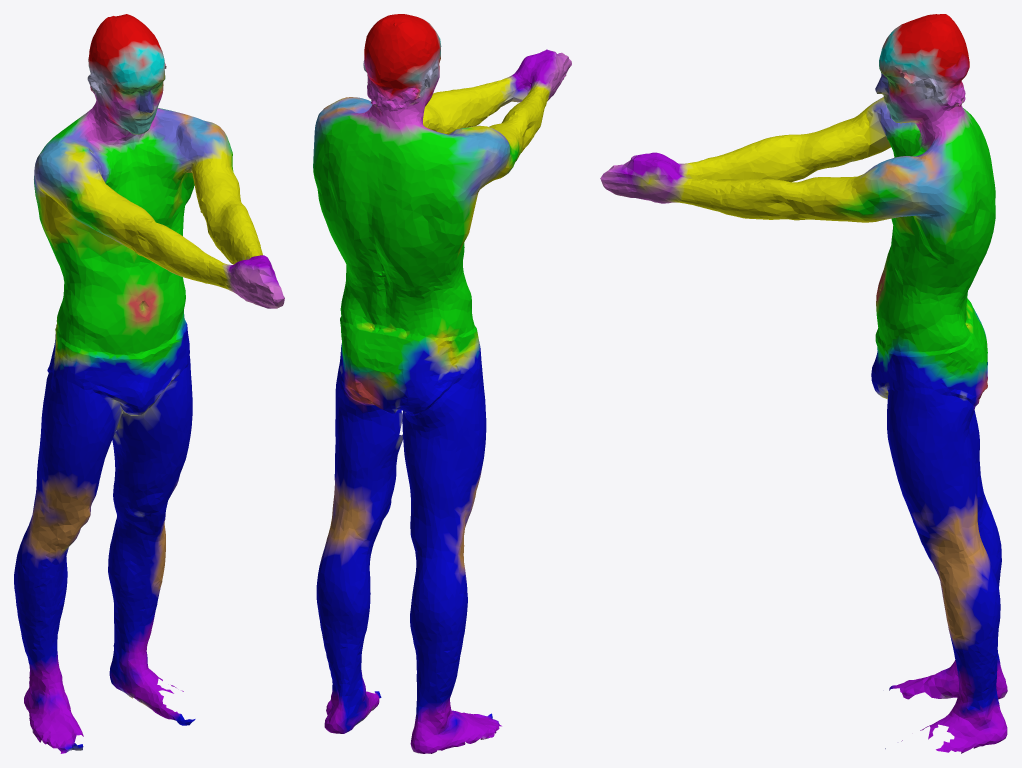
The model's file is 193_output_fine_grained.glb.
3 views of the same model, side by side, from view 1: azimuth 30°, elevation 25°; view 2: azimuth 150°, elevation 25°; view 3: azimuth 270°, elevation 25° (orthographic).
Parts seen in each view (by area): view 1: 193_output_fine_grained.obj; view 2: 193_output_fine_grained.obj; view 3: 193_output_fine_grained.obj.
Part boxes in pixels (left/top/right/bottom): 193_output_fine_grained.obj: left=14, top=14, right=284, bottom=753; 193_output_fine_grained.obj: left=313, top=14, right=571, bottom=753; 193_output_fine_grained.obj: left=600, top=14, right=1007, bottom=753.
Size of the model in its own units: 0.4927 by 1.82 by 0.9417.
